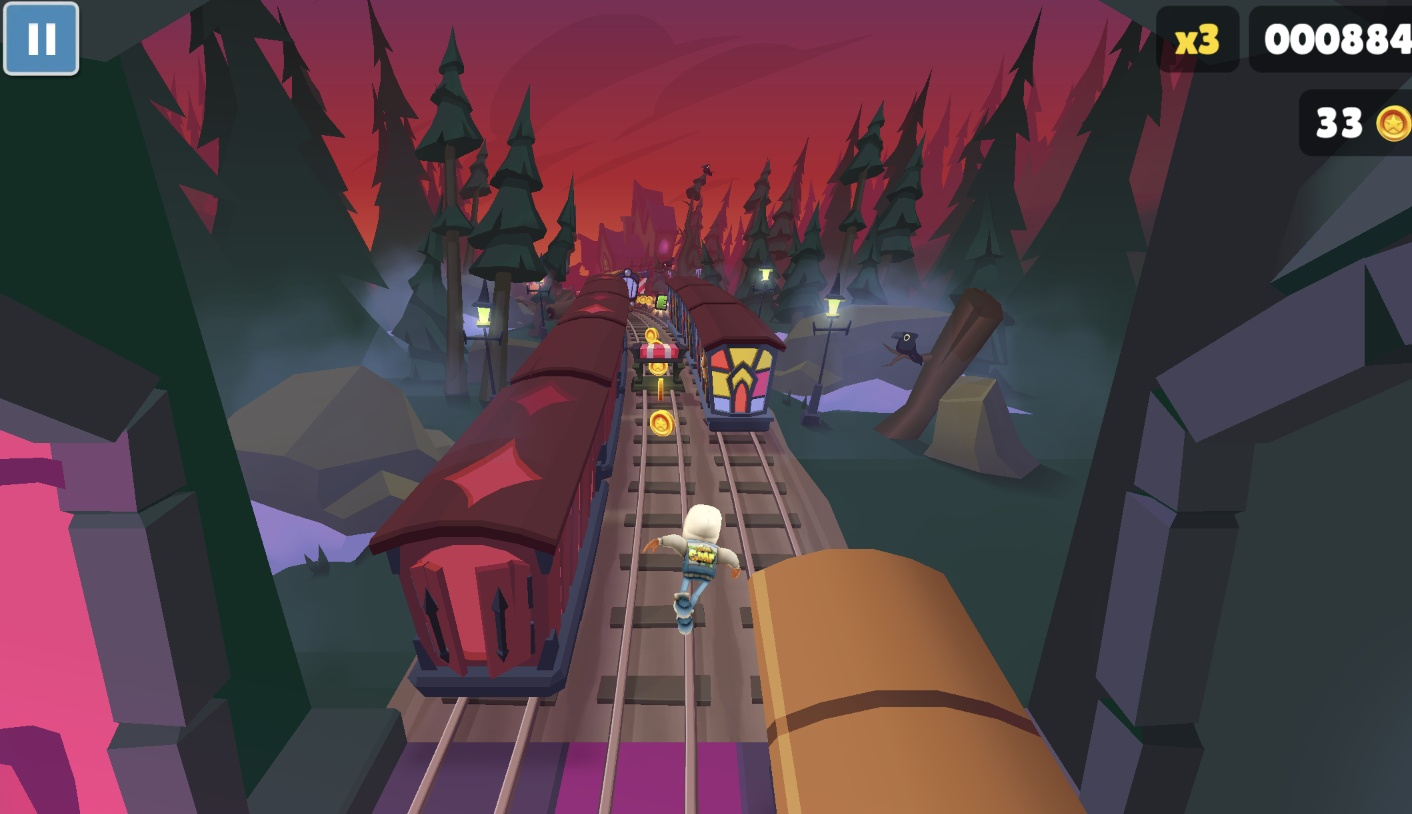ground_barrier: (633, 342, 686, 393)
overhead_barrier: (638, 271, 650, 296)
train: (367, 274, 630, 700), (741, 548, 1088, 814), (662, 275, 789, 432), (619, 269, 648, 303)
